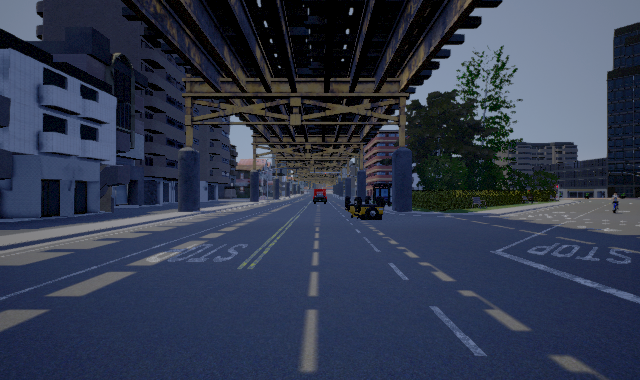bike: (608, 190, 624, 214)
vehicle: (345, 196, 385, 220), (311, 187, 329, 204)
